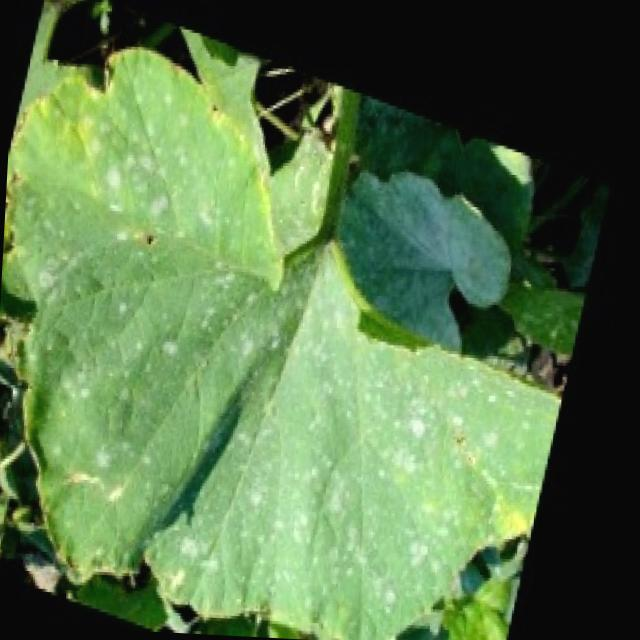Powdery_Mildew: (0, 41, 279, 635), (166, 220, 524, 640), (440, 340, 555, 544)
